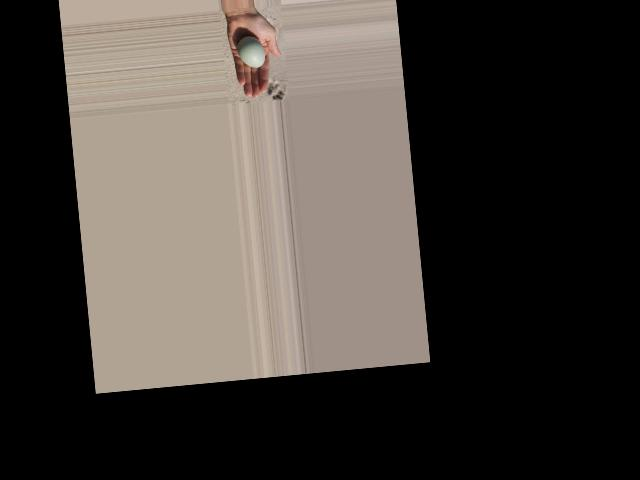egg: (236, 35, 265, 68)
